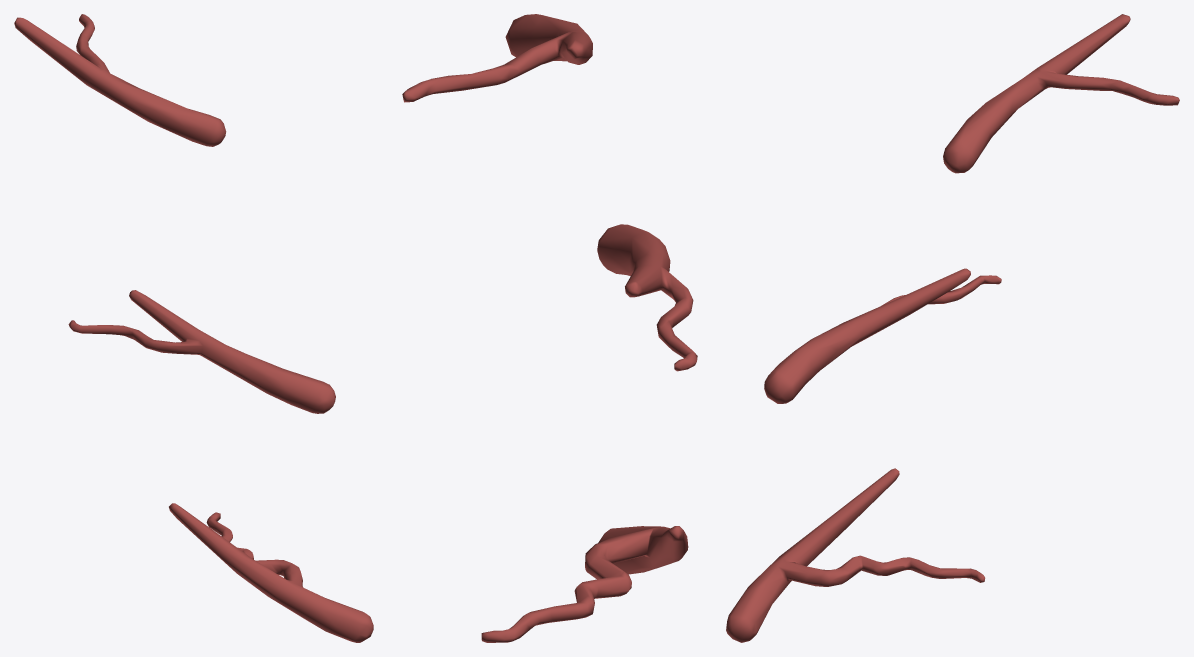
Rendered from FMA71670.glb.
The picture shows the model from 3 angles, left to right: view 1: azimuth 30°, elevation 25°; view 2: azimuth 150°, elevation 25°; view 3: azimuth 270°, elevation 25°; orthographic projection. The views are drawn at different scales.
Visible parts, largest first — view 1: FMA71670; view 2: FMA71670; view 3: FMA71670.
Boxes of the visible parts, x1,y1,x2,y2 form: FMA71670: (14,14,373,642); FMA71670: (402,14,697,642); FMA71670: (726,14,1179,642).
Bounding box in the file's own units: 0.0138 × 0.0382 × 0.0286.
